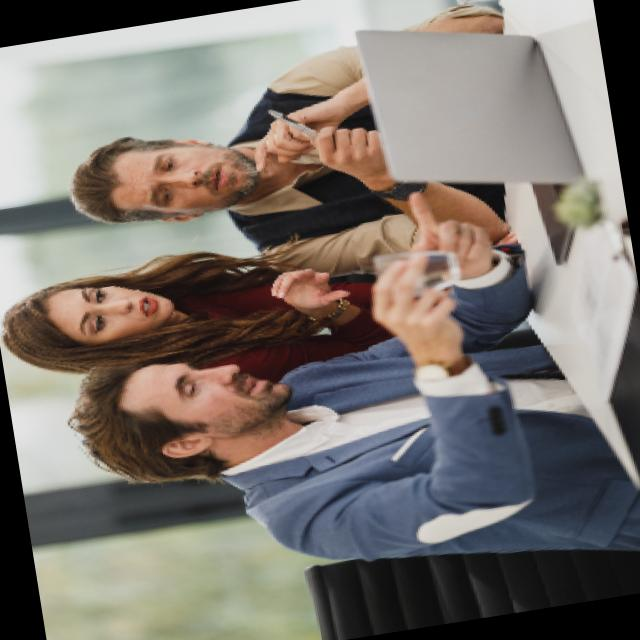Hand: (382, 180, 500, 292), (357, 248, 468, 366), (243, 96, 348, 172), (264, 260, 358, 332), (314, 120, 389, 186)
